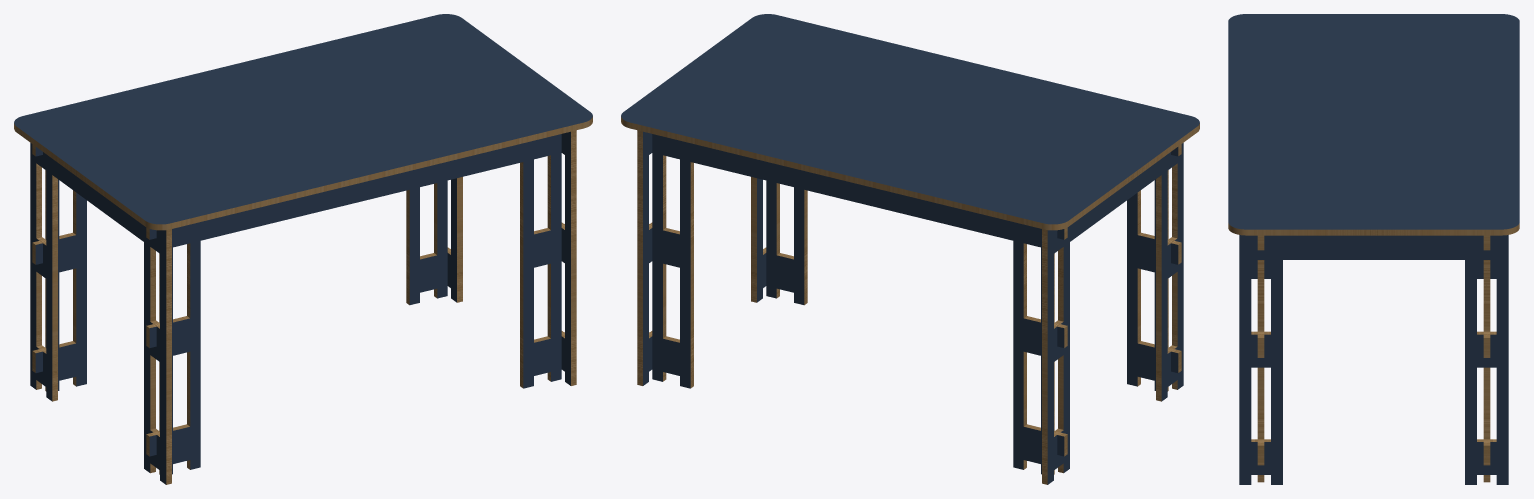
The model's file is NODO_COMEDOR_COUNTRY_CUARZO_V1_REVISION.glb.
3 renders of one model, left to right at view 1: azimuth 30°, elevation 25°; view 2: azimuth 150°, elevation 25°; view 3: azimuth 270°, elevation 25°, orthographic.
Visible parts, largest first — view 1: Tapa, Lateral_2, Lateral_4, Lateral_1, Lateral_3; view 2: Tapa, Lateral_1, Lateral_4, Lateral_2, Lateral_3; view 3: Tapa, Lateral_3, Lateral_1, Lateral_2, Lateral_4.
Boxes of the visible parts, x1=… form: Tapa: x1=14, y1=14, x2=592, y2=230; Lateral_2: x1=146, y1=134, x2=564, y2=474; Lateral_4: x1=30, y1=143, x2=171, y2=484; Lateral_1: x1=32, y1=144, x2=450, y2=391; Lateral_3: x1=447, y1=130, x2=576, y2=385; Tapa: x1=621, y1=14, x2=1199, y2=230; Lateral_1: x1=649, y1=134, x2=1067, y2=474; Lateral_4: x1=1042, y1=143, x2=1183, y2=484; Lateral_2: x1=763, y1=144, x2=1181, y2=391; Lateral_3: x1=637, y1=130, x2=766, y2=385; Tapa: x1=1228, y1=14, x2=1519, y2=235; Lateral_3: x1=1239, y1=235, x2=1508, y2=484; Lateral_1: x1=1483, y1=235, x2=1490, y2=482; Lateral_2: x1=1257, y1=235, x2=1264, y2=482; Lateral_4: x1=1251, y1=260, x2=1496, y2=278.
Size of the model in its own units: 1.4 by 0.799 by 0.8.
Materials: 2 (2 with a texture image).
